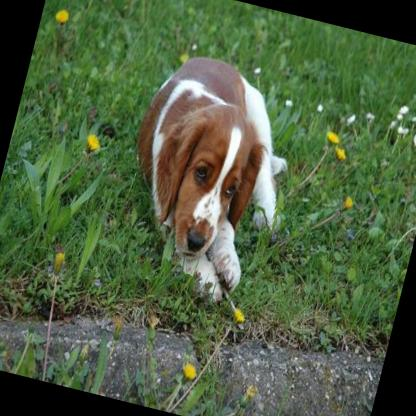Welsh_springer_spaniel: (104, 40, 310, 314)
